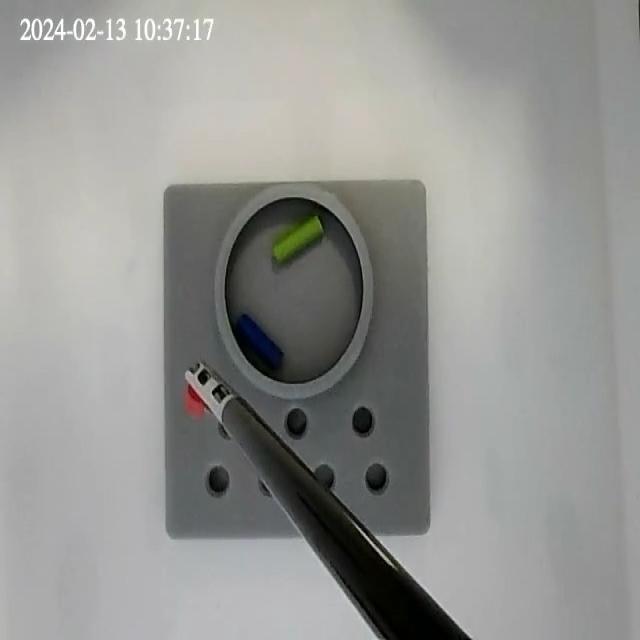EmptyHole: (349, 402, 376, 440), (364, 458, 389, 496), (206, 460, 231, 498), (312, 461, 336, 496), (284, 406, 308, 440), (257, 468, 282, 498), (218, 412, 241, 443)
